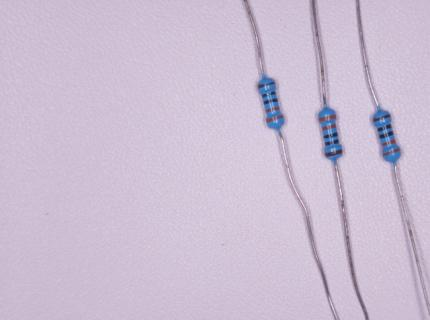Orange band: (266, 114, 284, 123), (319, 114, 337, 122), (383, 148, 400, 156), (381, 139, 397, 147), (265, 106, 279, 114), (322, 124, 336, 131)
